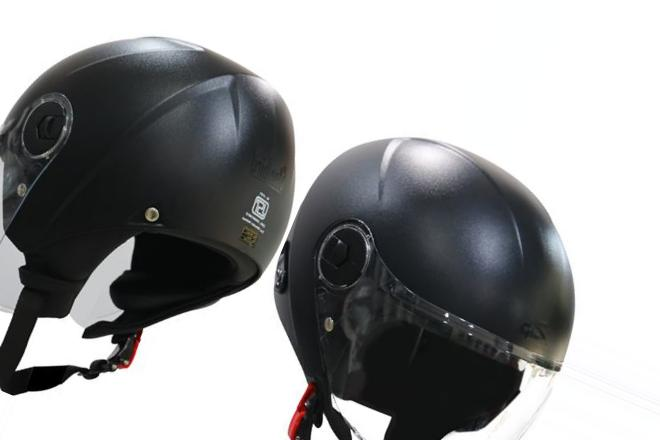helmet: (1, 22, 293, 383)
